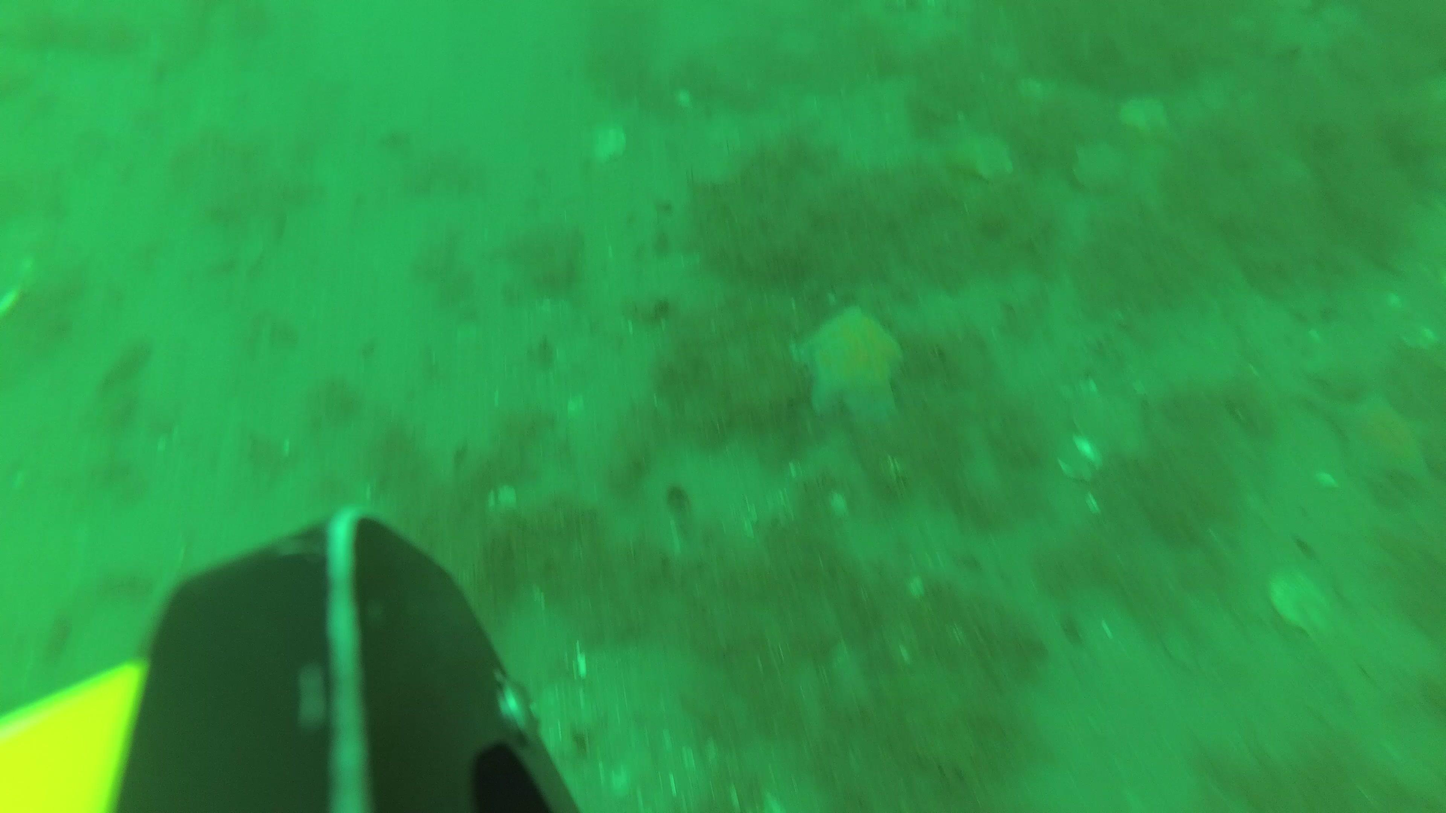holothurian: (789, 301, 912, 426), (1314, 391, 1437, 494)
scallop: (1267, 560, 1336, 645), (1068, 385, 1131, 462), (950, 133, 1017, 184), (1066, 137, 1127, 193), (1116, 91, 1173, 140), (586, 120, 633, 167)
